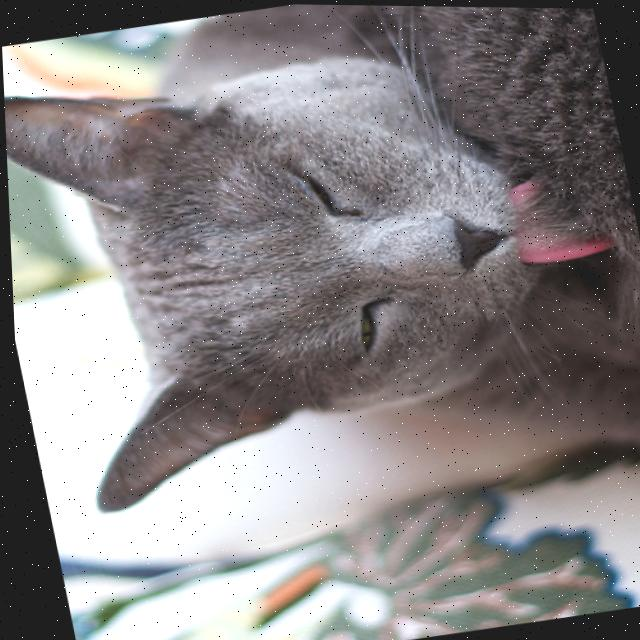Russian Blue: (0, 0, 640, 578)
